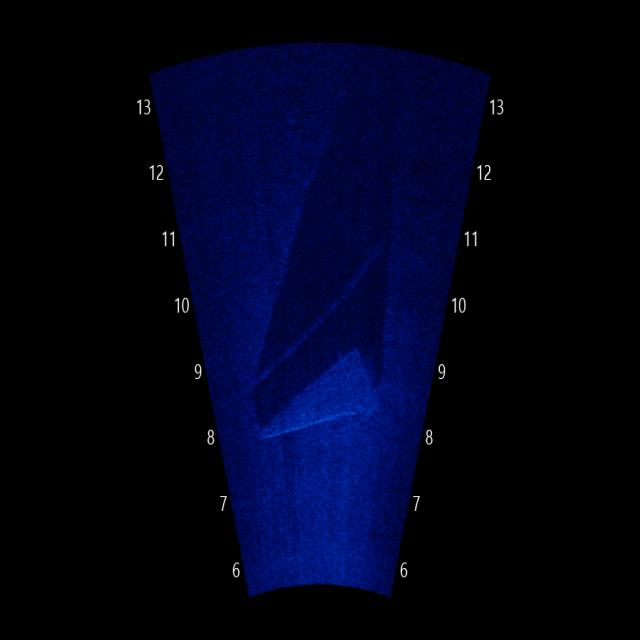triangle: (247, 328, 398, 465)
